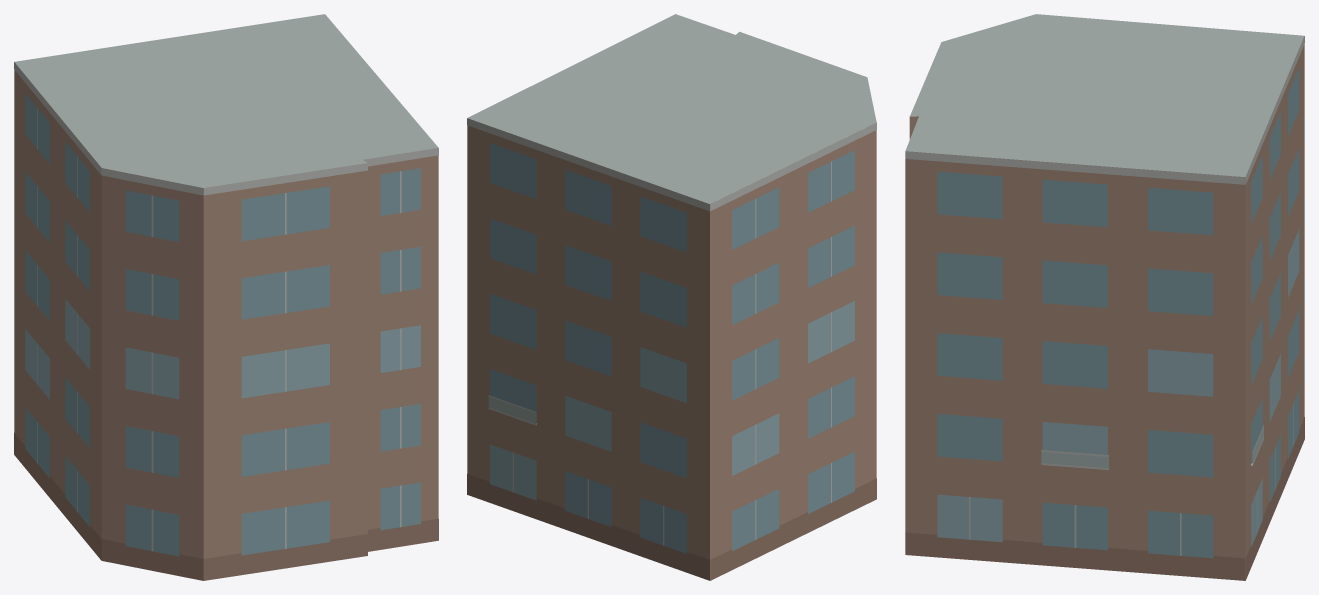
File: survey-upis-32646403.glb
3 renders of one model, left to right at view 1: azimuth 30°, elevation 25°; view 2: azimuth 150°, elevation 25°; view 3: azimuth 270°, elevation 25°, orthographic. The views are drawn at different scales.
Parts seen in each view (by area): view 1: survey-upis-32646403.tmp; view 2: survey-upis-32646403.tmp; view 3: survey-upis-32646403.tmp.
Boxes of the visible parts, <box> form: survey-upis-32646403.tmp: <box>14,14,438,580</box>; survey-upis-32646403.tmp: <box>467,14,876,580</box>; survey-upis-32646403.tmp: <box>905,14,1304,580</box>.
Bounding box in the file's own units: 11.1 × 12.8 × 11.49.
